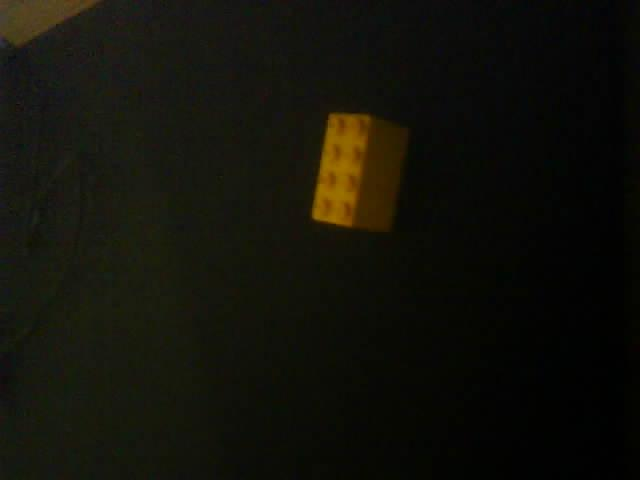lego: (311, 111, 408, 232)
